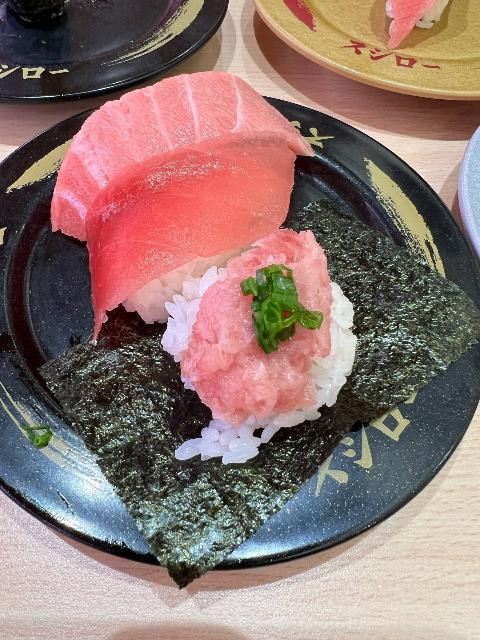janback: (1, 116, 472, 557), (0, 0, 209, 95)
jangold: (242, 0, 480, 112)
